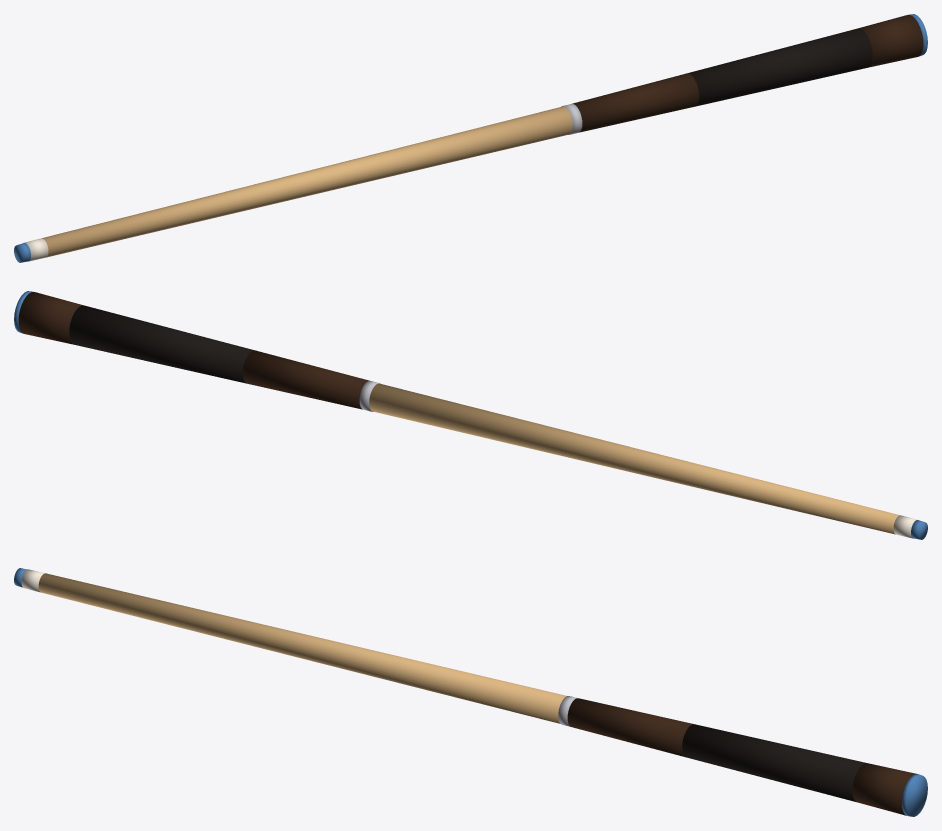
Rendered from cue.glb.
3 views of the same model, one above another, from view 1: azimuth 30°, elevation 25°; view 2: azimuth 150°, elevation 25°; view 3: azimuth 330°, elevation 25° (orthographic).
Parts seen in each view (by area): view 1: cue; view 2: cue; view 3: cue.
Part boxes in pixels (bbox=[...]): cue: bbox=[14, 14, 927, 262]; cue: bbox=[14, 291, 927, 539]; cue: bbox=[14, 568, 927, 816].
Size of the model in its own units: 1.15 by 0.048 by 0.048.
